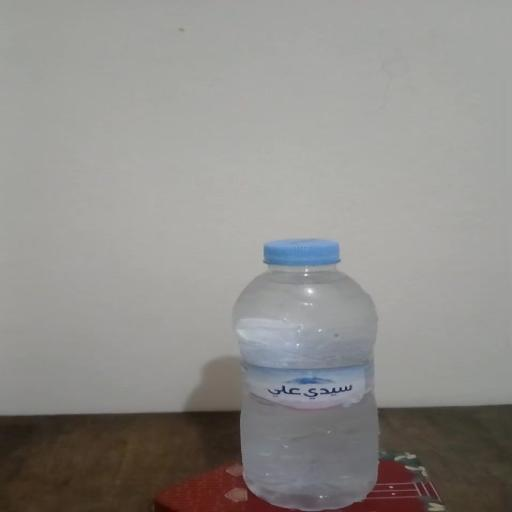bouteille conformite: (192, 214, 419, 512)
